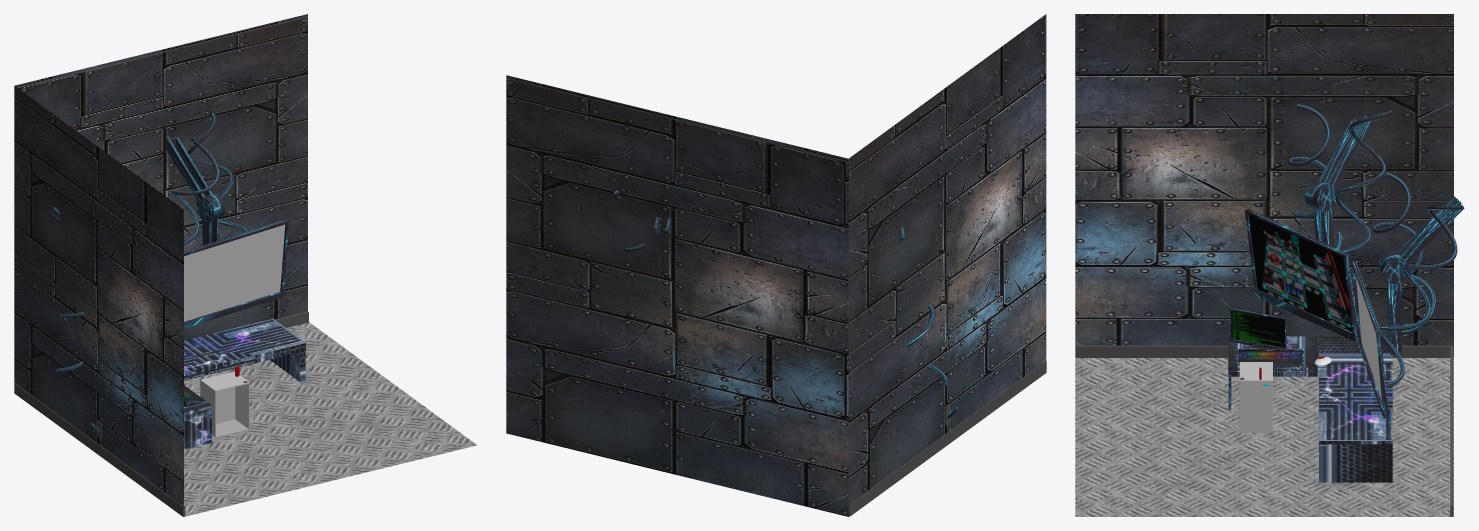
Rendered from HackingRoom.fbx.
3 renders of one model, left to right at view 1: azimuth 30°, elevation 25°; view 2: azimuth 150°, elevation 25°; view 3: azimuth 270°, elevation 25°, orthographic. The views are drawn at different scales.
Visible parts, largest first — view 1: polySurface15, polySurface16, polySurface9, pCube24, pCube8, pCube19, pCube26, pCube20, polySurface10; view 2: polySurface15, pCube26; view 3: polySurface15, polySurface16, pCube24, polySurface7, pCube8, pCube9, pCube26, pCube19, polySurface8, polySurface11, polySurface10, polySurface14 (+2 smaller).
Part boxes in pixels (bbox=[...]): polySurface15: bbox=[14, 14, 307, 516]; polySurface16: bbox=[184, 322, 476, 516]; polySurface9: bbox=[184, 224, 285, 321]; pCube24: bbox=[184, 319, 306, 449]; pCube8: bbox=[166, 112, 248, 245]; pCube19: bbox=[200, 371, 249, 437]; pCube26: bbox=[14, 383, 185, 516]; pCube20: bbox=[216, 383, 250, 437]; polySurface10: bbox=[184, 219, 289, 328]; polySurface15: bbox=[506, 14, 1046, 516]; pCube26: bbox=[849, 360, 1046, 516]; polySurface15: bbox=[1075, 14, 1453, 356]; polySurface16: bbox=[1075, 357, 1453, 516]; pCube24: bbox=[1228, 336, 1392, 482]; polySurface7: bbox=[1248, 214, 1352, 332]; pCube8: bbox=[1372, 172, 1464, 387]; pCube9: bbox=[1288, 104, 1392, 307]; pCube26: bbox=[1076, 345, 1452, 357]; pCube19: bbox=[1239, 362, 1272, 432]; polySurface8: bbox=[1245, 208, 1358, 341]; polySurface11: bbox=[1230, 308, 1286, 348]; polySurface10: bbox=[1351, 261, 1388, 418]; polySurface14: bbox=[1236, 348, 1303, 366].
Bounding box in the file's own units: 13.54 × 12.63 × 12.94.
